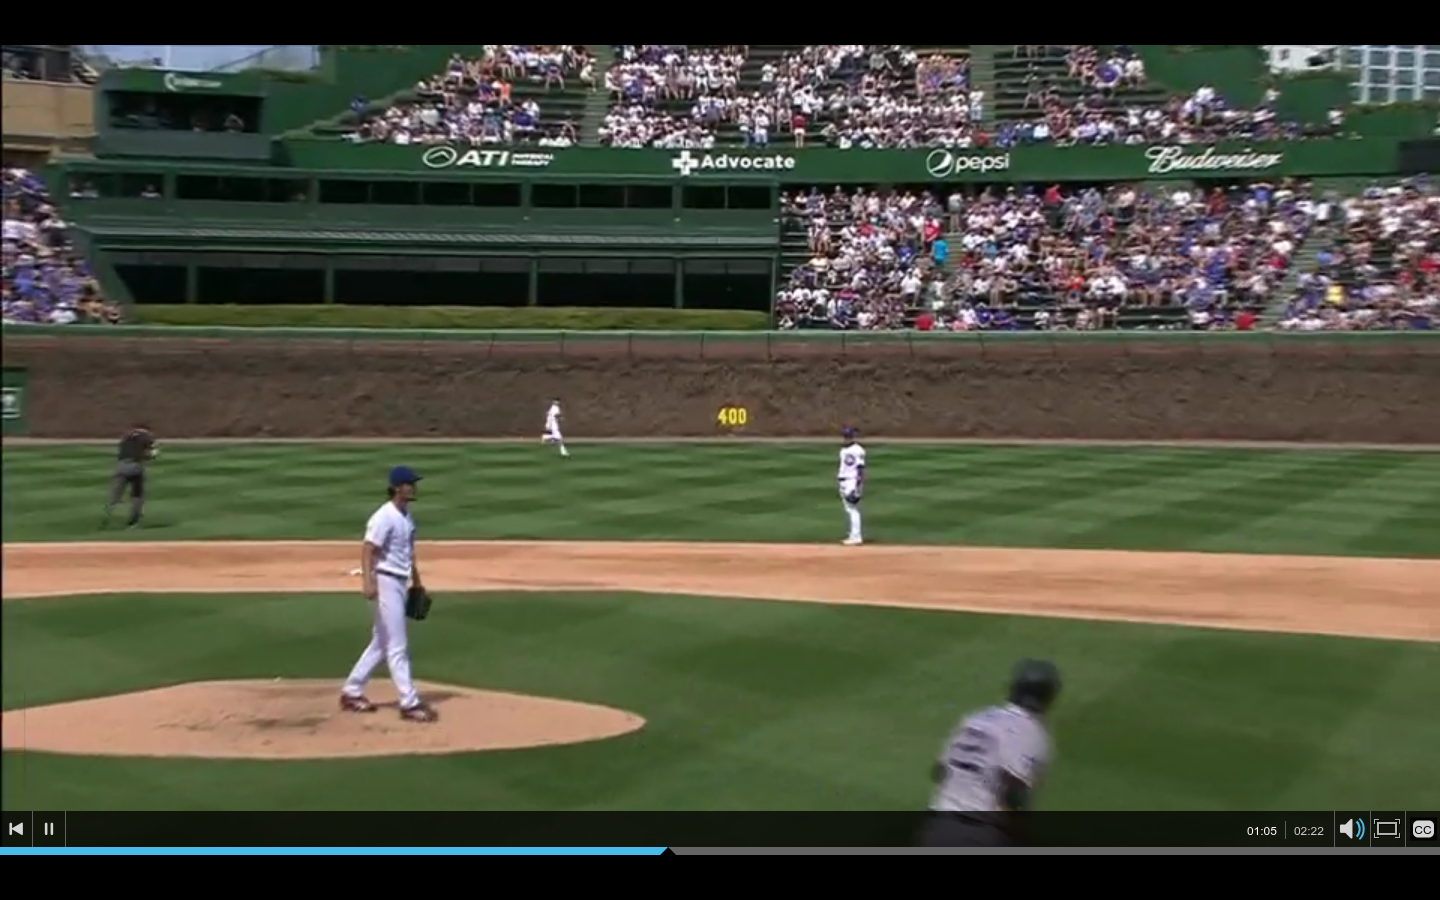baseball player: (335, 459, 439, 723), (912, 659, 1067, 808), (832, 426, 875, 549), (538, 396, 575, 456)
referee: (99, 417, 162, 537)
